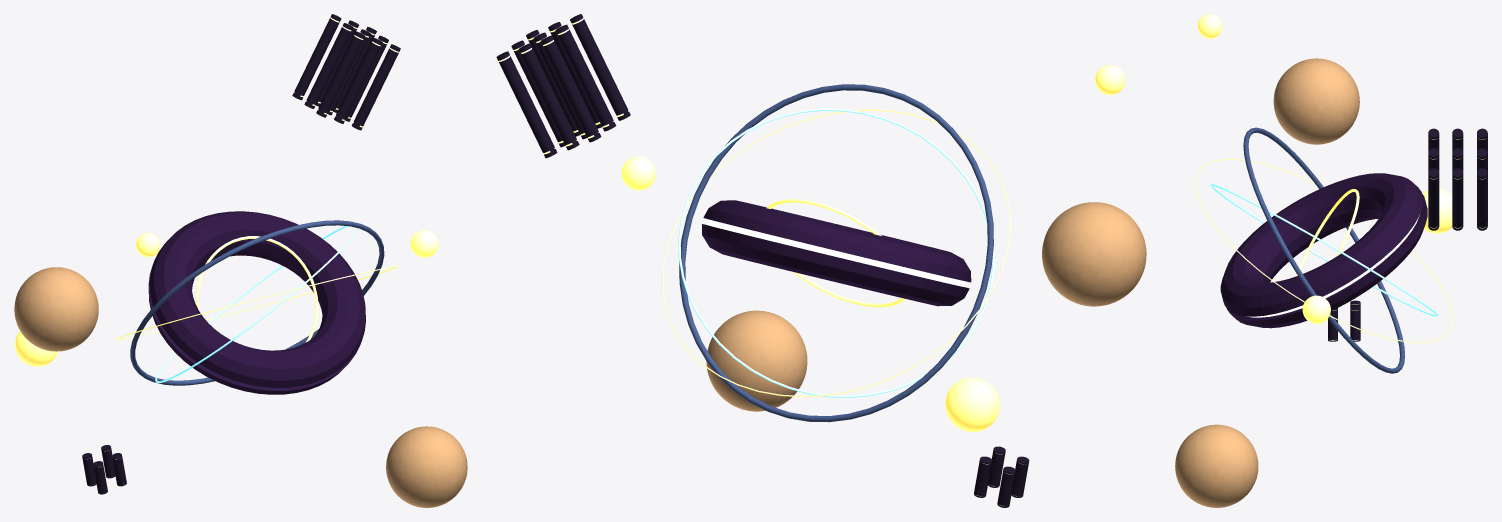
File: scene2_lights.glb
3 renders of one model, left to right at view 1: azimuth 30°, elevation 25°; view 2: azimuth 150°, elevation 25°; view 3: azimuth 270°, elevation 25°, orthographic. The views are drawn at different scales.
Parts seen in each view (by area): view 1: Torus.001, Cylinder.016, Sphere_pink.001, Sphere_pink.003, Circle.002, Cylinder.021, Circle, Sphere_pink, Circle.003, Circle.001, Sphere_pink.002; view 2: Torus.001, Cylinder.016, Sphere_pink.001, Sphere_pink.003, Circle.002, Circle, Sphere_pink, Cylinder.021, Circle.003, Torus.002, Circle.001, Sphere_pink.002 (+1 smaller); view 3: Torus.001, Sphere_pink.001, Sphere_pink.003, Cylinder.016, Circle.002, Circle, Circle.003, Sphere_pink, Cylinder.021, Sphere_pink.002, Circle.001, Sphere_pink.004 (+1 smaller).
Boxes of the visible parts, x1,y1,x2,y2 form: Torus.001: (148,211,365,394); Cylinder.016: (292,14,400,130); Sphere_pink.001: (14,267,98,351); Sphere_pink.003: (386,426,467,507); Circle.002: (130,220,384,385); Cylinder.021: (82,445,126,494); Circle: (155,226,358,382); Sphere_pink: (15,331,57,366); Circle.003: (116,266,397,339); Circle.001: (196,236,318,342); Sphere_pink.002: (410,230,438,257); Torus.001: (702,200,971,306); Cylinder.016: (496,14,630,158); Sphere_pink.001: (1042,202,1146,306); Sphere_pink.003: (706,310,807,411); Circle.002: (679,84,993,422); Circle: (678,108,994,397); Sphere_pink: (945,377,999,431); Cylinder.021: (974,446,1029,507); Circle.003: (662,109,1010,397); Torus.002: (708,219,964,286); Circle.001: (766,199,905,307); Sphere_pink.002: (621,156,655,190); Torus.001: (1220,173,1427,328); Sphere_pink.001: (1273,58,1359,144); Sphere_pink.003: (1175,424,1258,507); Cylinder.016: (1428,128,1487,230); Circle.002: (1243,127,1404,373); Circle: (1210,184,1437,316); Circle.003: (1195,158,1452,342); Sphere_pink: (1423,188,1452,233); Cylinder.021: (1328,300,1360,341); Sphere_pink.002: (1302,295,1330,323); Circle.001: (1295,189,1359,276); Sphere_pink.004: (1197,14,1222,38).
Bounding box in the file's own units: 10.68 × 8.99 × 6.47.
Materials: 3 (2 with a texture image).
